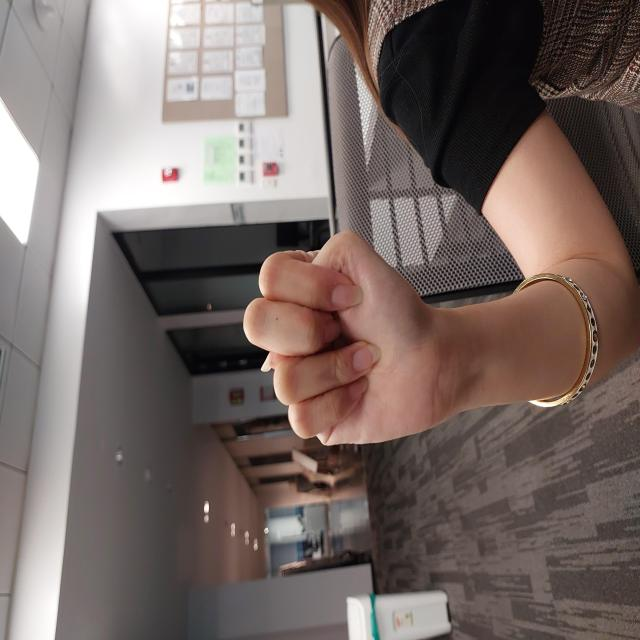N: (193, 241, 414, 439)
